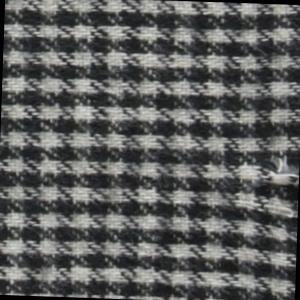Damage: (255, 152, 300, 203)
